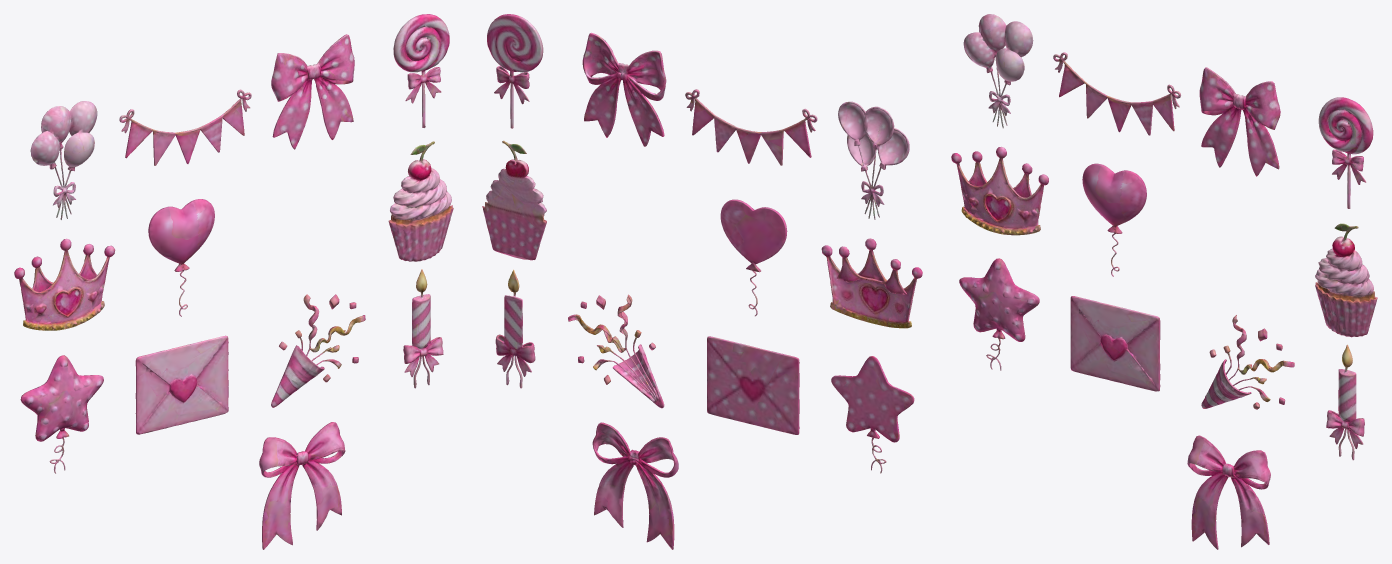
3 views of the same model, side by side, from view 1: azimuth 30°, elevation 25°; view 2: azimuth 150°, elevation 25°; view 3: azimuth 330°, elevation 25° (orthographic). The views are drawn at different scales.
Parts seen in each view (by area): view 1: Mesh 15, Mesh 20, Mesh 21, Mesh 1, Mesh 28, Mesh 5, Mesh 8, Mesh 29, Mesh 17, Mesh 14, Mesh 27, Mesh 30; view 2: Mesh 15, Mesh 21, Mesh 20, Mesh 1, Mesh 28, Mesh 5, Mesh 8, Mesh 29, Mesh 17, Mesh 14, Mesh 27, Mesh 30; view 3: Mesh 15, Mesh 20, Mesh 21, Mesh 1, Mesh 28, Mesh 5, Mesh 8, Mesh 29, Mesh 17, Mesh 14, Mesh 27, Mesh 30.
Part boxes in pixels (box(x1,y1,x2,y2)): Mesh 15: box(135, 335, 228, 434); Mesh 20: box(259, 422, 345, 549); Mesh 21: box(271, 34, 354, 149); Mesh 1: box(14, 238, 115, 330); Mesh 28: box(388, 141, 453, 261); Mesh 5: box(20, 355, 103, 473); Mesh 8: box(30, 101, 97, 219); Mesh 29: box(393, 14, 449, 127); Mesh 17: box(148, 199, 214, 316); Mesh 14: box(119, 89, 251, 165); Mesh 27: box(271, 294, 365, 407); Mesh 30: box(403, 269, 443, 388); Mesh 15: box(707, 336, 799, 434); Mesh 21: box(582, 32, 666, 146); Mesh 20: box(592, 422, 678, 549); Mesh 1: box(821, 238, 922, 328); Mesh 28: box(482, 140, 546, 260); Mesh 5: box(831, 356, 914, 473); Mesh 8: box(838, 101, 909, 219); Mesh 29: box(487, 14, 543, 128); Mesh 17: box(720, 199, 787, 316); Mesh 14: box(685, 89, 817, 165); Mesh 27: box(568, 294, 664, 408); Mesh 30: box(495, 269, 535, 388); Mesh 15: box(1070, 296, 1160, 391); Mesh 20: box(1187, 435, 1270, 549); Mesh 21: box(1199, 67, 1280, 176); Mesh 1: box(951, 147, 1048, 235); Mesh 28: box(1315, 223, 1377, 337); Mesh 5: box(959, 258, 1039, 370); Mesh 8: box(963, 14, 1033, 128); Mesh 29: box(1318, 97, 1373, 208); Mesh 17: box(1082, 163, 1146, 276); Mesh 14: box(1053, 52, 1180, 135); Mesh 27: box(1201, 315, 1294, 409); Mesh 30: box(1326, 344, 1364, 460).
Bounding box in the file's own units: 1.76 × 1.9 × 0.0784.
12 materials, 12 textured.
